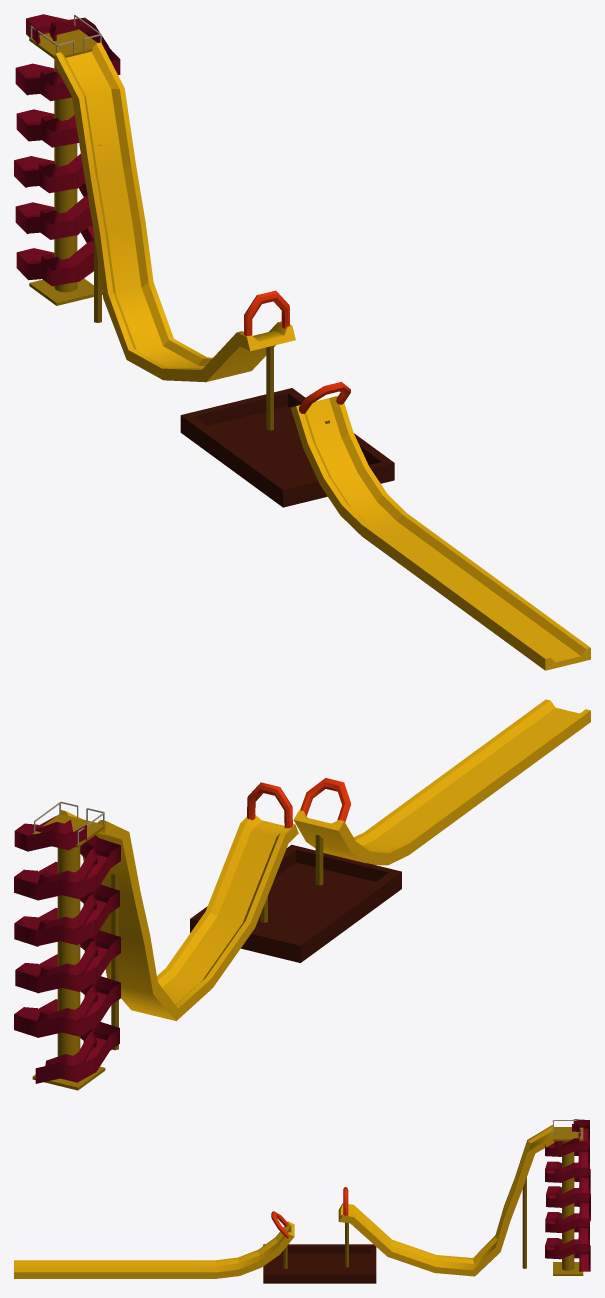
The model's file is WaterSlideJump_01.fbx.
The picture shows the model from 3 angles, top to bottom: view 1: azimuth 30°, elevation 25°; view 2: azimuth 150°, elevation 25°; view 3: azimuth 270°, elevation 25°; orthographic projection. The views are drawn at different scales.
Parts seen in each view (by area): view 1: pCube6; view 2: pCube6; view 3: pCube6.
Part boxes in pixels (left/top/right/bottom): pCube6: left=14, top=14, right=590, bottom=670; pCube6: left=14, top=699, right=590, bottom=1090; pCube6: left=14, top=1119, right=590, bottom=1283.
Size of the model in its own units: 4.73 by 10.87 by 38.48.
